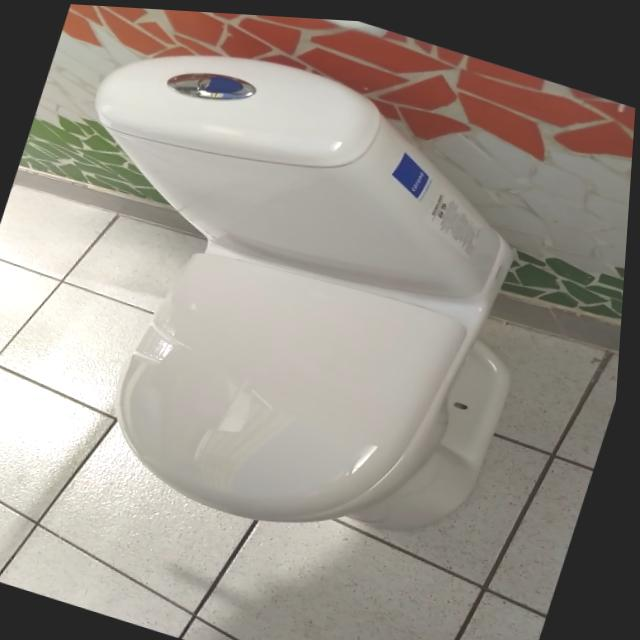toilet: (0, 5, 592, 582)
